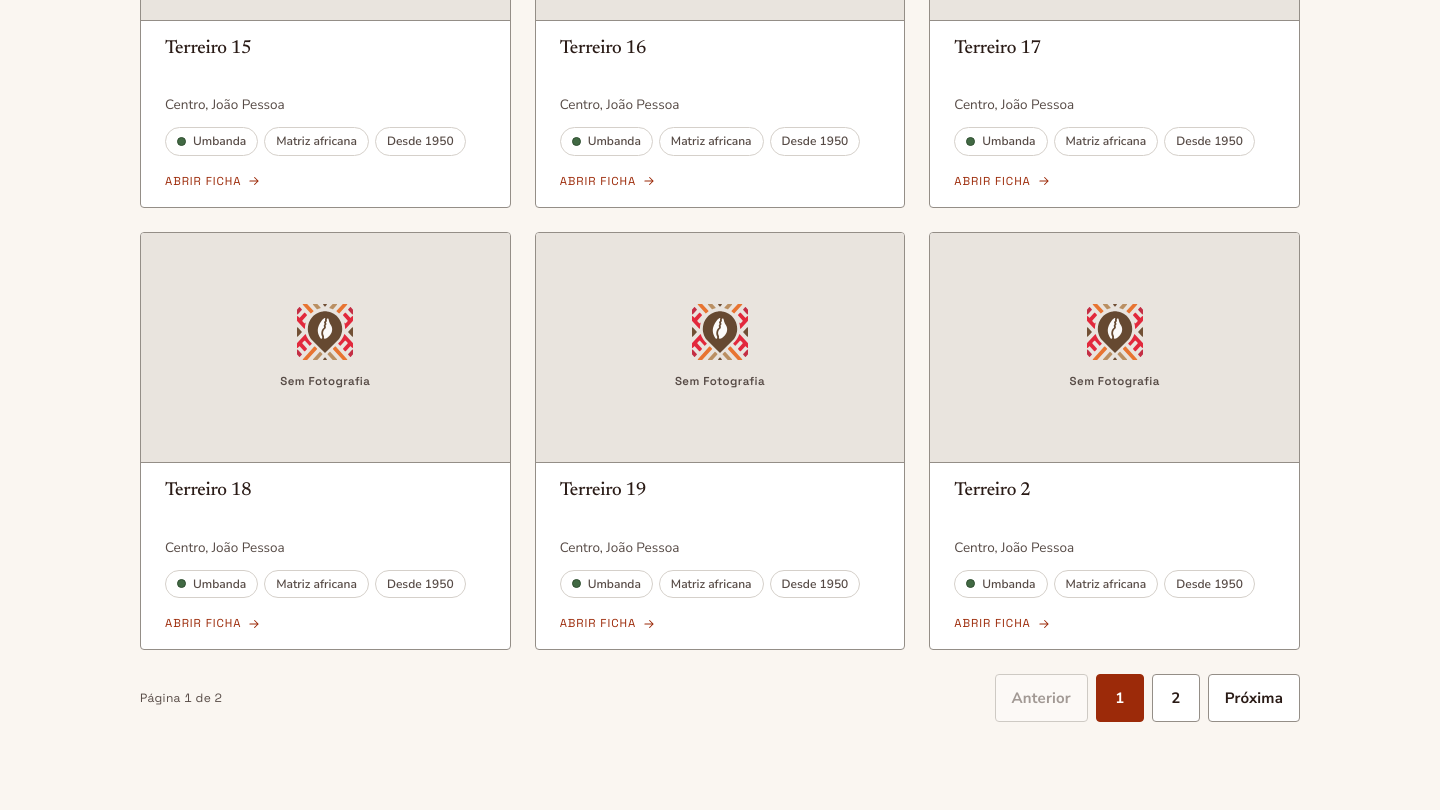
Test case: Fluxo de busca › pagina os resultados de doze em doze
This screenshot has width=1440, height=810.
(page scrolled)
Expected: the text "Página 1 de 2" is shown, [140,689,222,707]
Click the button "Próxima".
click(1254, 698)  # box [1208,674,1300,722]
(page scrolled)
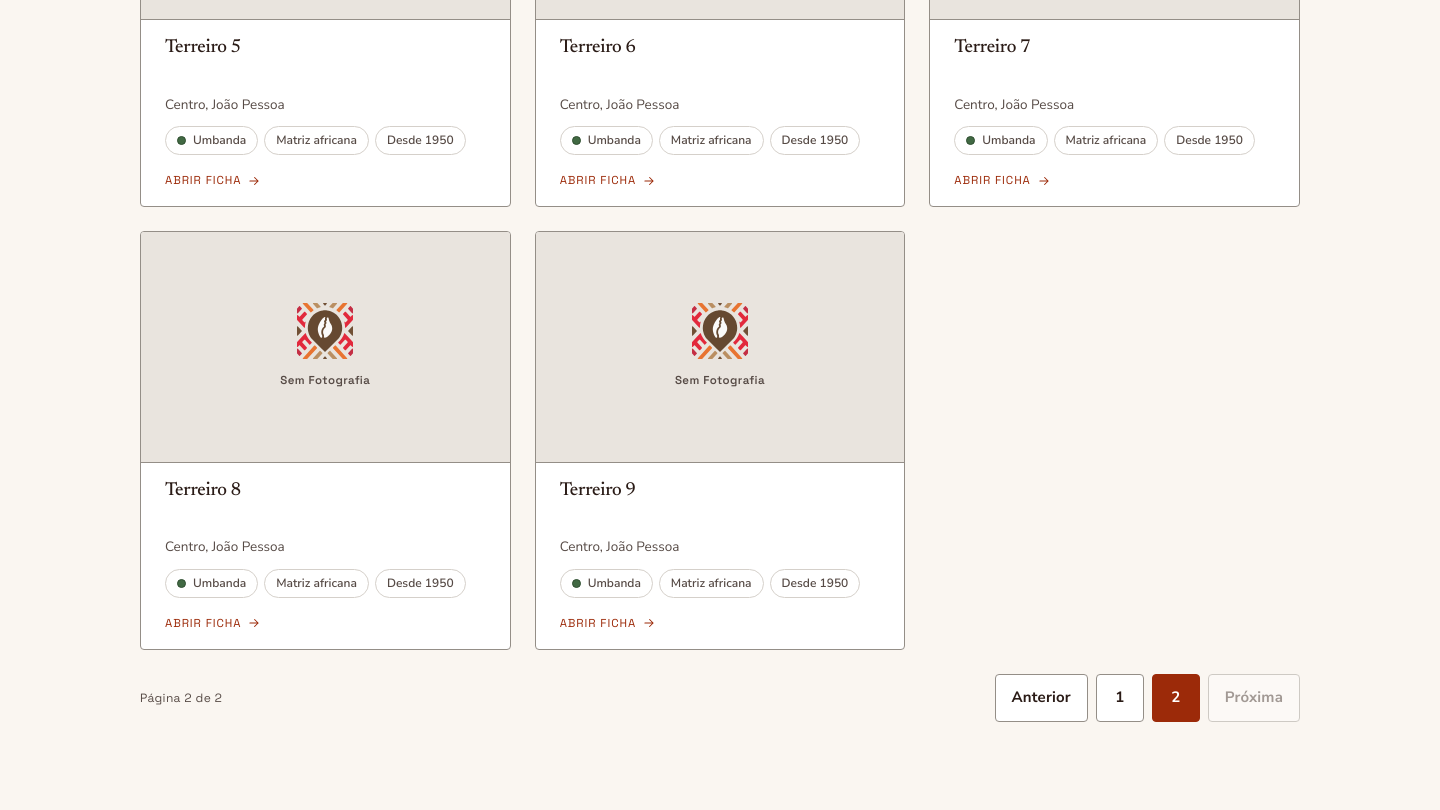
Expected: the text "Página 2 de 2" is shown, [140,689,222,707]
